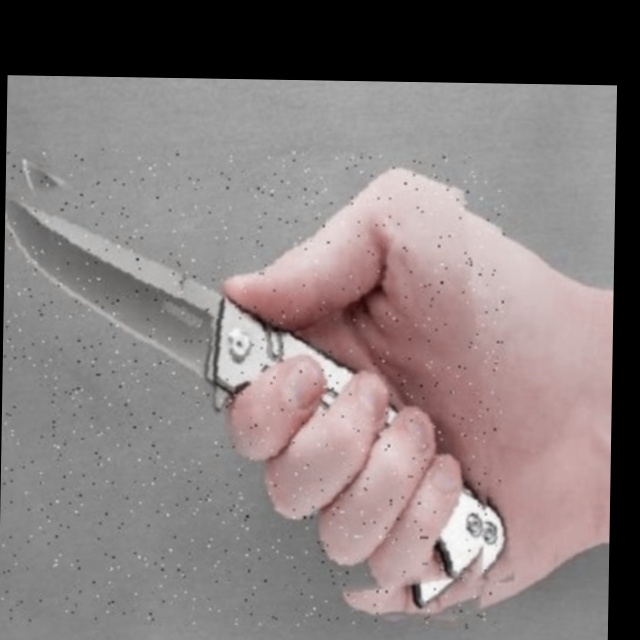Sharp-Object: (0, 147, 506, 629)
